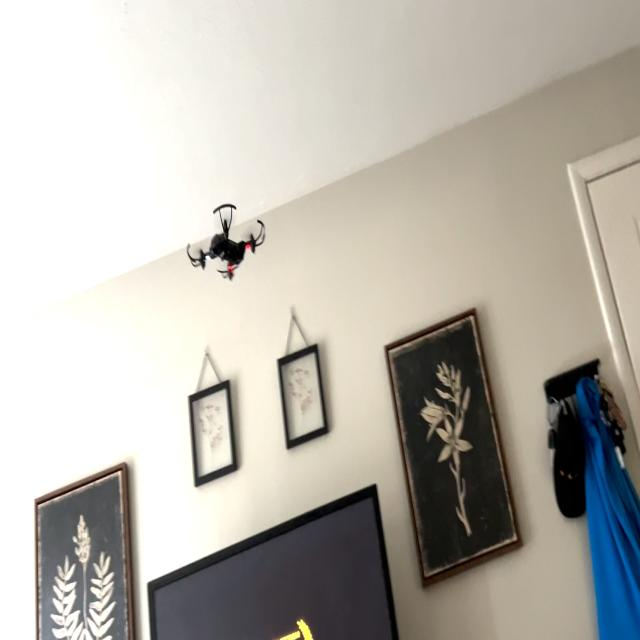drone: (178, 187, 272, 293)
